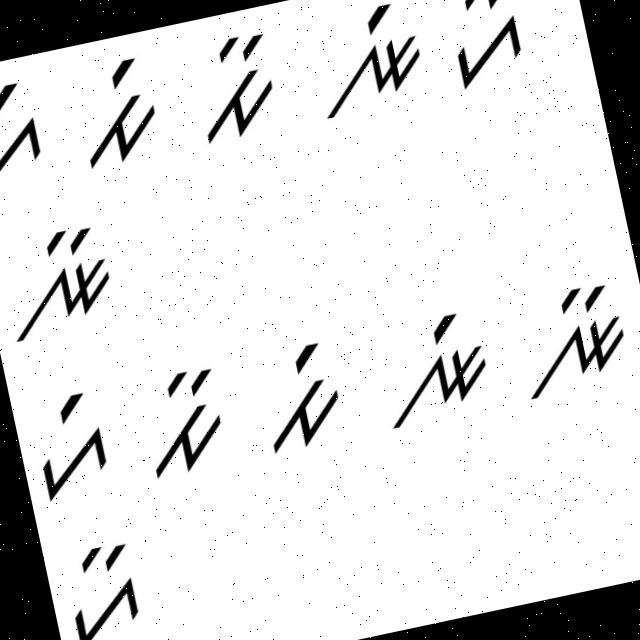han: (52, 523, 153, 639), (437, 0, 538, 98)
hang: (17, 381, 120, 505), (0, 78, 56, 196)
mban: (125, 362, 235, 484), (180, 24, 286, 146)
mbang: (62, 48, 172, 181), (242, 338, 352, 462)
ndan: (503, 261, 639, 406), (0, 212, 124, 349)
ndang: (364, 290, 498, 436), (301, 0, 436, 126)
